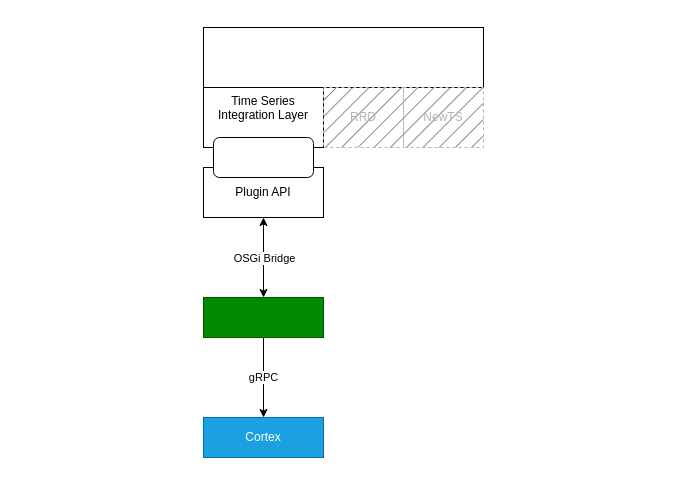
Some shapes in this 674 by 484 pixel diagram are drawn without their labels. Here are the shapes that lost their labels. From the top down, the centre of each, then its label:
At (x=343, y=57): "Core Runtime".
At (x=263, y=157): "TIme Series Storage API".
At (x=263, y=317): "Cortex TSS Plugin".
